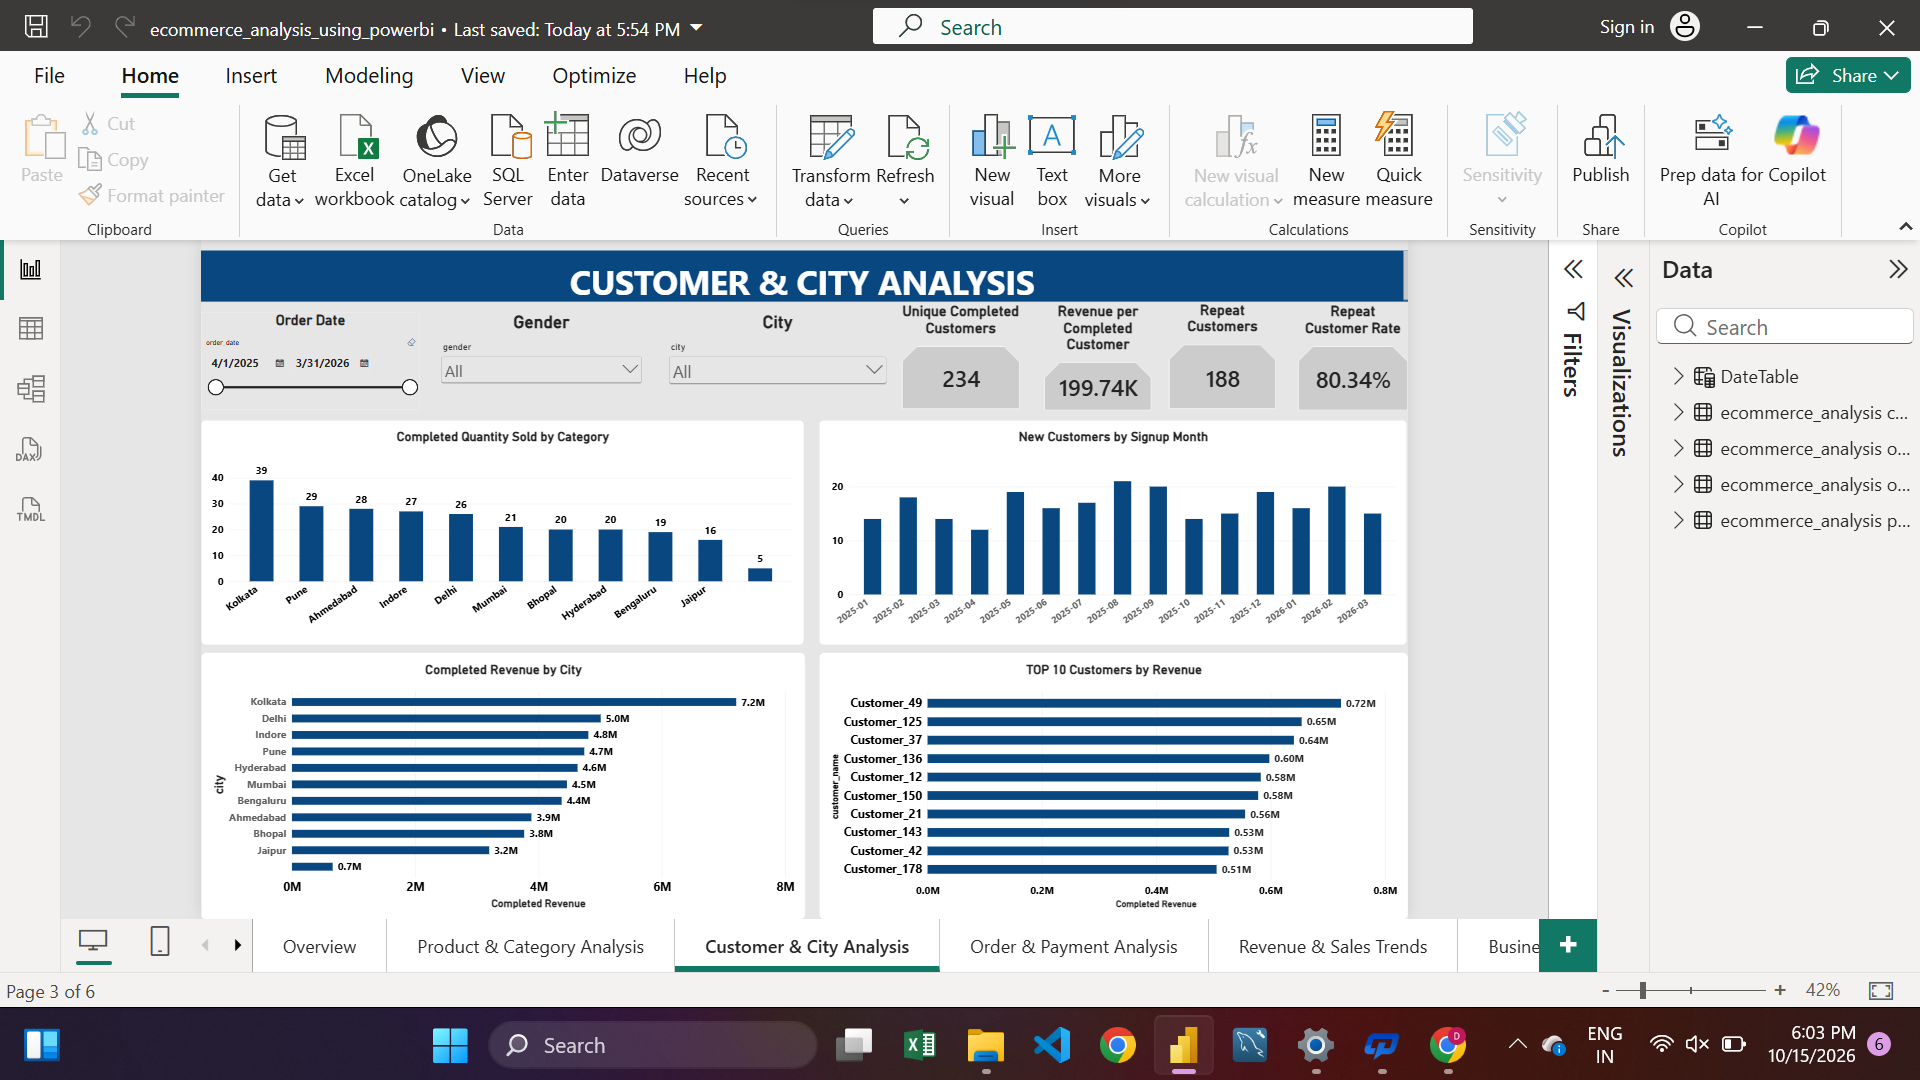

The page's visual inventory and layout, read from the dashboard file:
{"tool":"powerbi","page":{"name":"Customer & City Analysis","canvas":[1920,1080],"ordinal":2},"visuals":[{"type":"textbox","box":[0,17,1921.2,97.2],"z":0},{"type":"slicer","title":"Order Date","fields":{"Values":["ecommerce_analysis orders.order_date"]},"box":[0,114.5,348.3,155.1],"z":1000},{"type":"slicer","title":"Gender","fields":{"Values":["ecommerce_analysis customers.gender"]},"box":[377,114.5,329.3,155.1],"z":2000},{"type":"slicer","title":"City","fields":{"Values":["ecommerce_analysis customers.city"]},"box":[739.6,114.5,355.5,155.1],"z":3000},{"type":"textbox","box":[0,16.7,1920.7,81.1],"z":4000},{"type":"cardVisual","title":"Unique Completed Customers","fields":{"Data":["ecommerce_analysis order_items.Unique Completed Customers"]},"box":[1114.2,100.2,188.5,169.4],"z":5000},{"type":"cardVisual","title":"Revenue per Completed Customer","fields":{"Data":["ecommerce_analysis order_items.Revenue per Completed Customer"]},"box":[1340.9,100.2,171.8,171.8],"z":6000},{"type":"clusteredBarChart","title":"Completed Revenue by City","fields":{"Y":["ecommerce_analysis order_items.Completed Revenue"],"Category":["ecommerce_analysis customers.city"]},"box":[0,655.3,961.5,424.7],"z":7000},{"type":"clusteredBarChart","title":"TOP 10 Customers by Revenue","fields":{"Y":["ecommerce_analysis order_items.Completed Revenue"],"Category":["ecommerce_analysis customers.customer_name"]},"box":[982.3,655.3,937.7,424.7],"z":8000},{"type":"clusteredColumnChart","title":"Completed Quantity Sold by Category","fields":{"Category":["ecommerce_analysis customers.city"],"Y":["Count(ecommerce_analysis customers.customer_id)"]},"box":[0,286.3,959.1,357.9],"z":9000},{"type":"clusteredColumnChart","title":"New Customers by Signup Month","fields":{"Y":["Count(ecommerce_analysis customers.customer_id)"],"Category":["ecommerce_analysis customers.Signup Year Month"]},"box":[983,286.3,935.3,357.9],"z":10000},{"type":"cardVisual","title":"Repeat Customers","fields":{"Data":["ecommerce_analysis order_items.Repeat Customers"]},"box":[1538.9,97.8,171.8,171.8],"z":11000},{"type":"cardVisual","title":"Repeat Customer Rate","fields":{"Data":["ecommerce_analysis order_items.Repeat Customer Rate"]},"box":[1744.1,100.2,176.6,171.8],"z":12000}]}

Visuals, with their boxes on the page's 1920x1080 design canvas (x1, y1, x2, y2). These are canvas units, not pixel positions in the 1920x1080 screenshot, which may show the page scaled, cropped or inside an application window:
textbox: 0, 17, 1921, 114
"Order Date" slicer: 0, 114, 348, 270
"Gender" slicer: 377, 114, 706, 270
"City" slicer: 740, 114, 1095, 270
textbox: 0, 17, 1921, 98
"Unique Completed Customers" cardVisual: 1114, 100, 1303, 270
"Revenue per Completed Customer" cardVisual: 1341, 100, 1513, 272
"Completed Revenue by City" clusteredBarChart: 0, 655, 962, 1080
"TOP 10 Customers by Revenue" clusteredBarChart: 982, 655, 1920, 1080
"Completed Quantity Sold by Category" clusteredColumnChart: 0, 286, 959, 644
"New Customers by Signup Month" clusteredColumnChart: 983, 286, 1918, 644
"Repeat Customers" cardVisual: 1539, 98, 1711, 270
"Repeat Customer Rate" cardVisual: 1744, 100, 1921, 272
